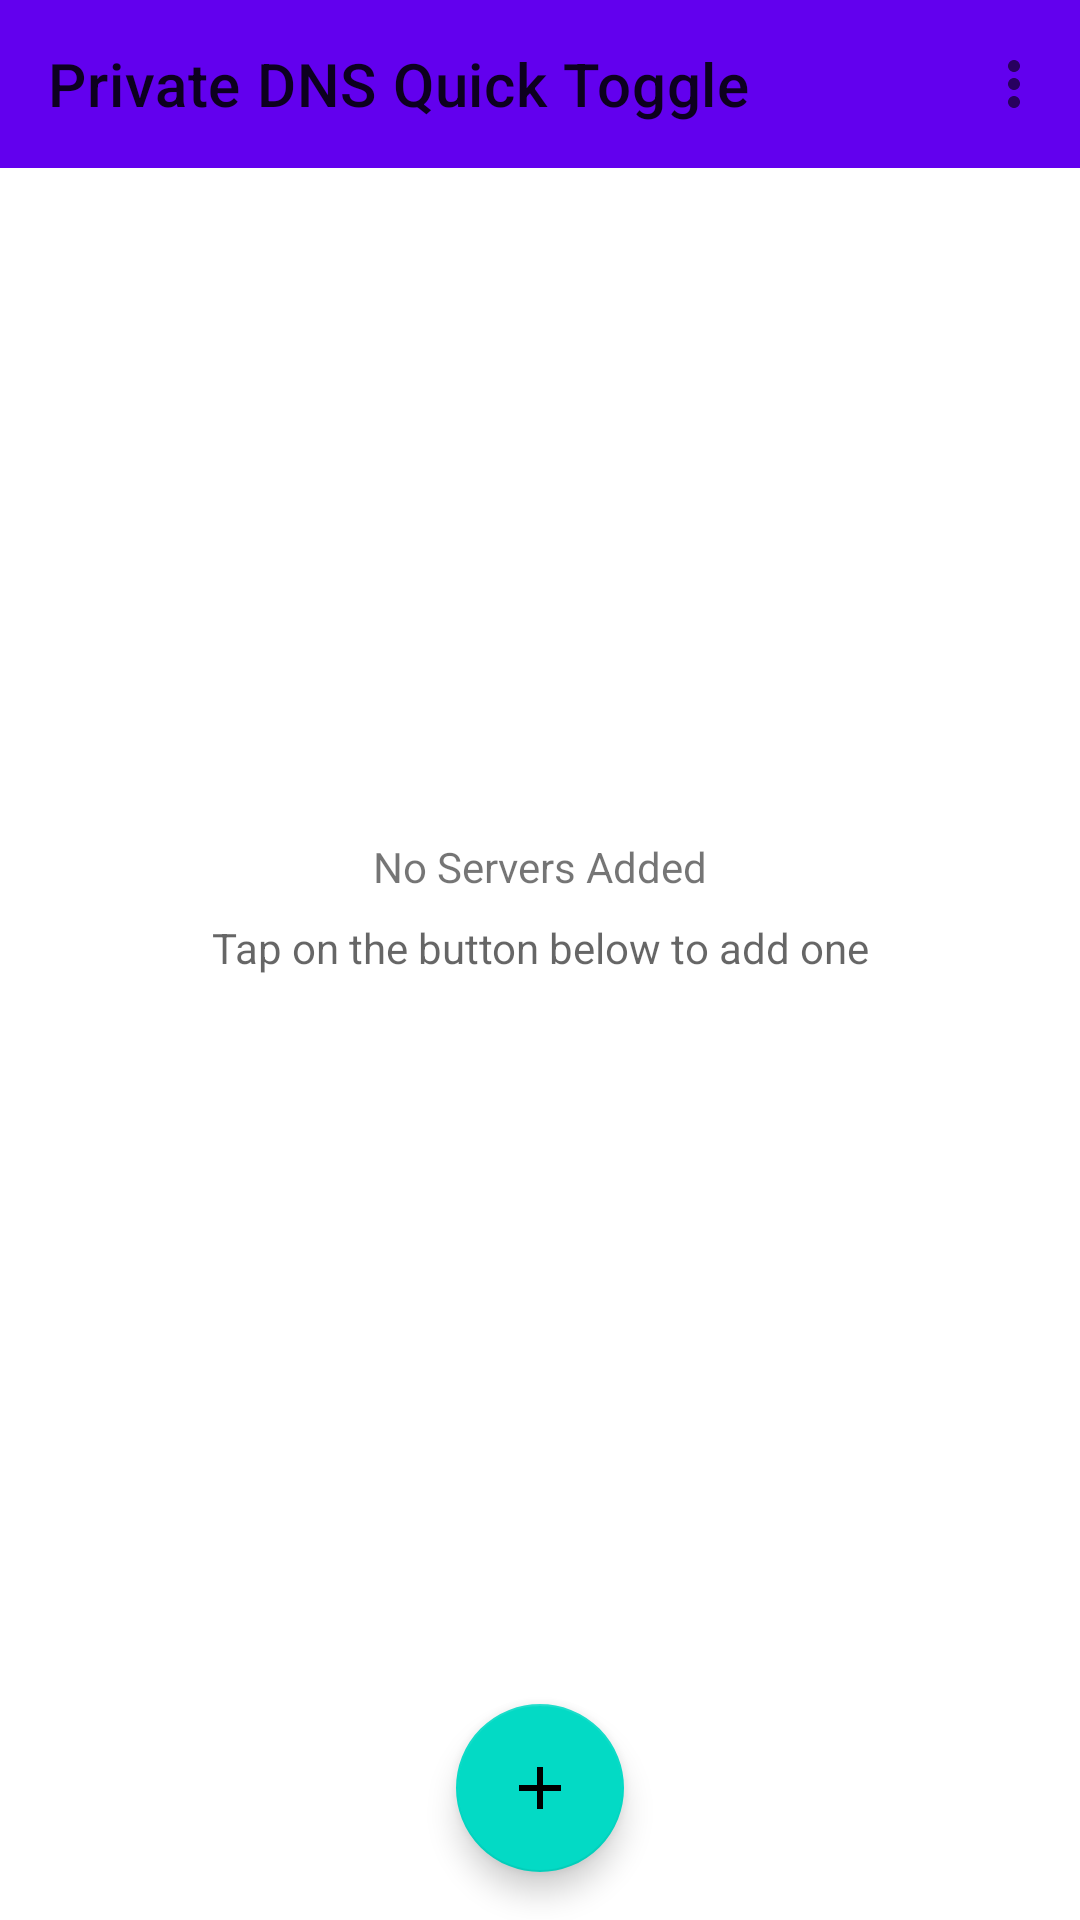

Icons on this 1080*1920 Android screen, each with the point to tap as [x,y]:
Add Server: [540,1788]
